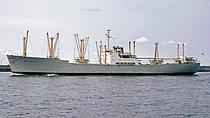Ship: (4, 29, 204, 80)
